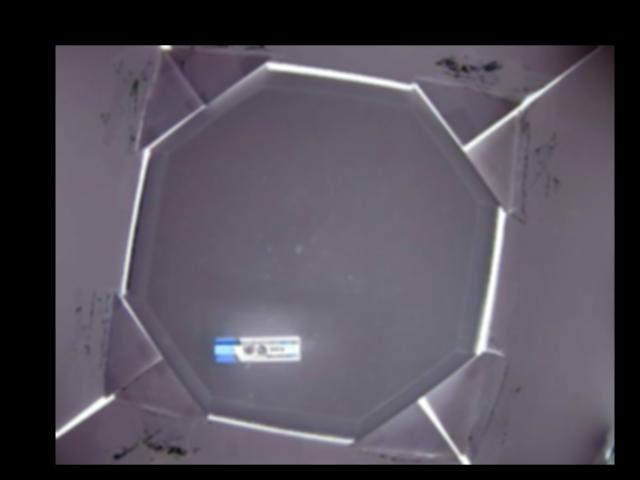Battery: (212, 337, 302, 360)
